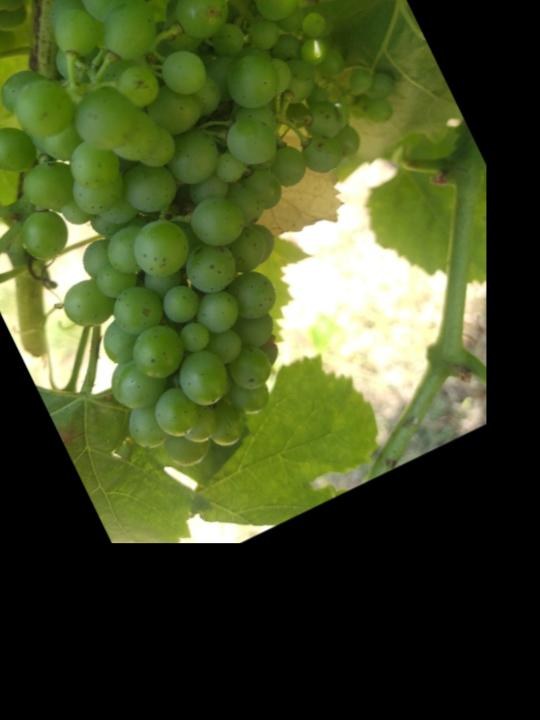grape: (0, 0, 511, 498)
